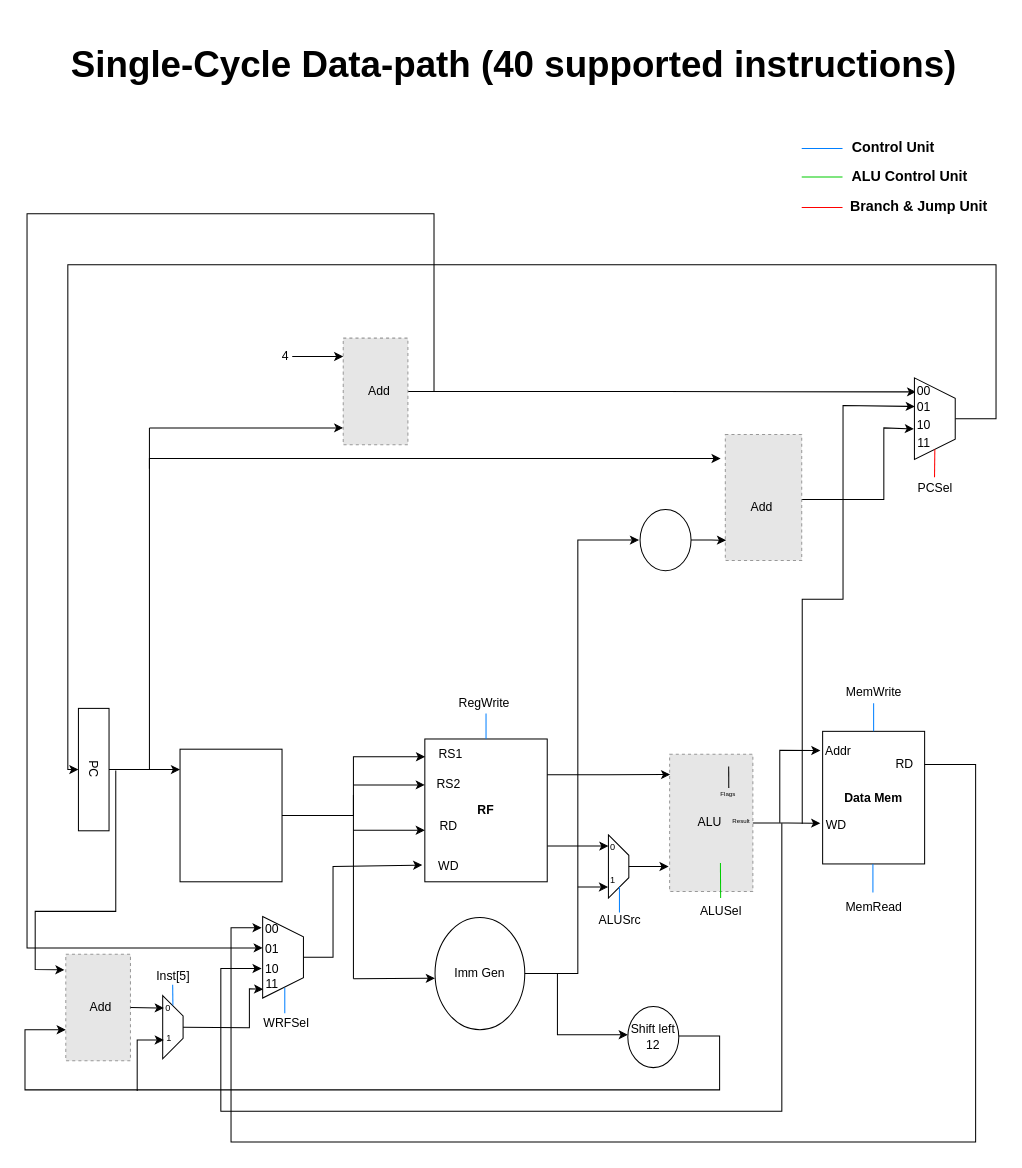
This 1022x1168 diagram has some shape labels left out. Grey dashed boxes stand in for pictures. The shapes that lost their labels are listed below. From the top down, each one's centre as x and y in pixels, then its label:
the point at 665,539: Shift left 1
the point at 230,815: Inst Mem
